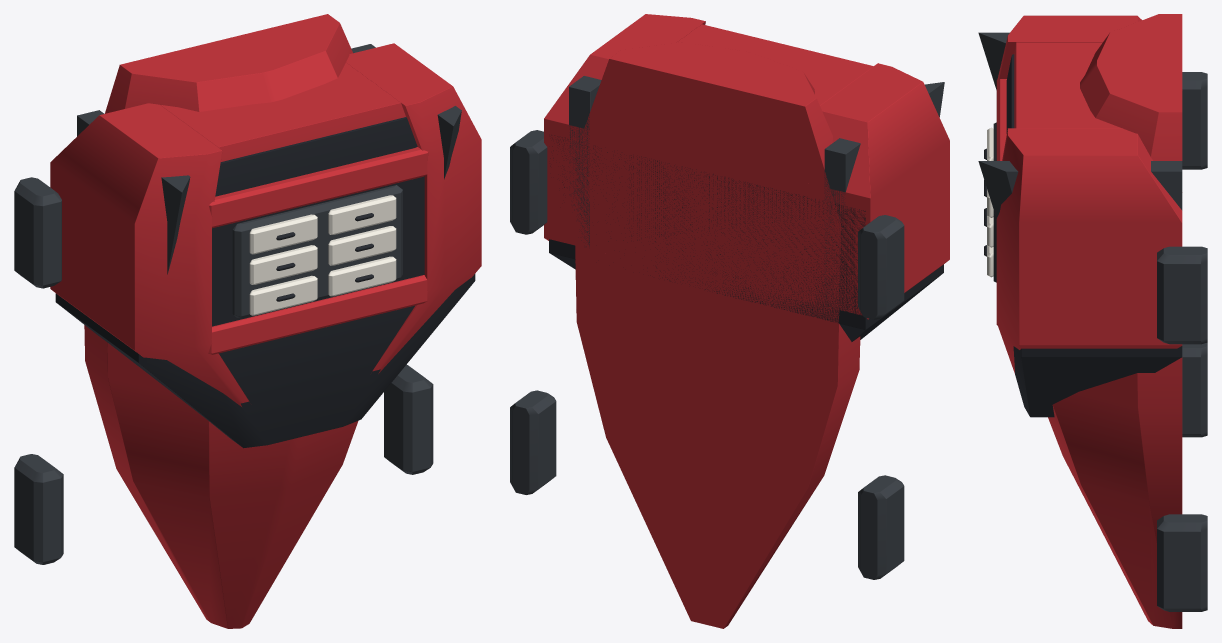
The model's file is ThighFront_Set07_Salvo.fbx.
3 renders of one model, left to right at view 1: azimuth 30°, elevation 25°; view 2: azimuth 150°, elevation 25°; view 3: azimuth 270°, elevation 25°, orthographic. The views are drawn at different scales.
Parts seen in each view (by area): view 1: ThighFront_Set07_Salvo; view 2: ThighFront_Set07_Salvo; view 3: ThighFront_Set07_Salvo.
Boxes of the visible parts, left/top/right/bottom form: ThighFront_Set07_Salvo: left=14, top=14, right=481, bottom=628; ThighFront_Set07_Salvo: left=510, top=14, right=949, bottom=628; ThighFront_Set07_Salvo: left=978, top=14, right=1207, bottom=628.
Bounding box in the file's own units: 0.53 × 0.73 × 0.2718.
